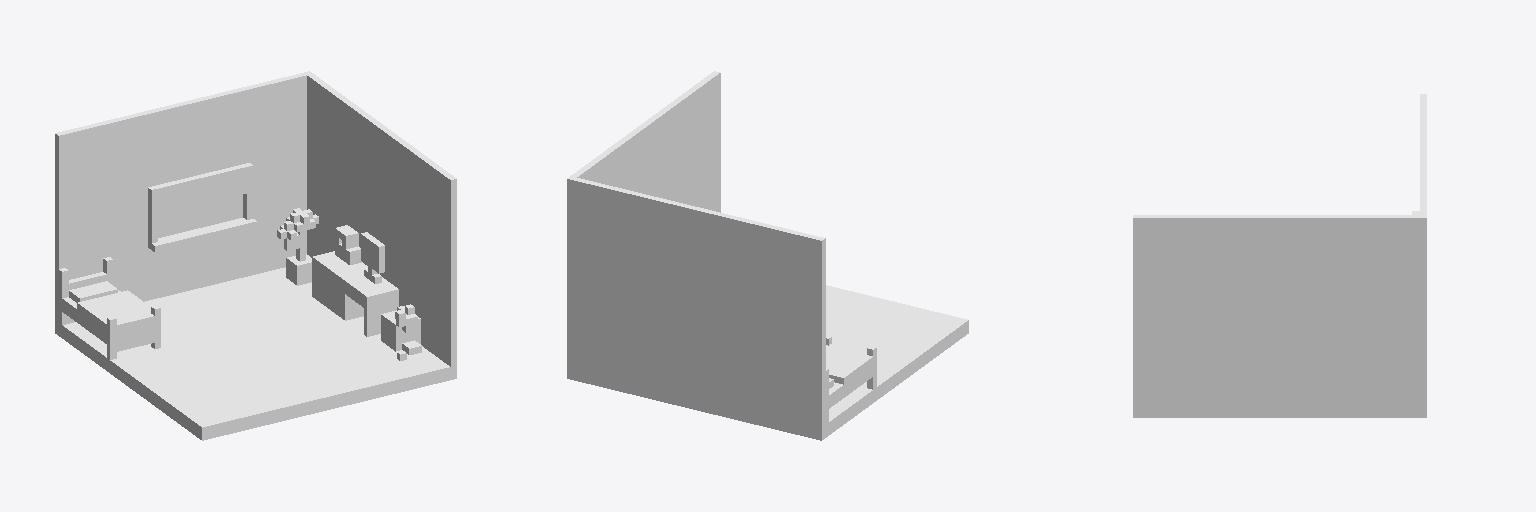
Rendered from room2final.obj.
The picture shows the model from 3 angles: view 1: azimuth 30°, elevation 25°; view 2: azimuth 150°, elevation 25°; view 3: azimuth 270°, elevation 25°; orthographic projection.
Parts seen in each view (by area): view 1: object 1; view 2: object 1; view 3: object 1.
Part boxes in pixels (x1,y1,x2,y2): object 1: (55, 71, 456, 440); object 1: (567, 71, 968, 440); object 1: (1133, 94, 1426, 417).
Bounding box in the file's own units: 4 × 3 × 4.